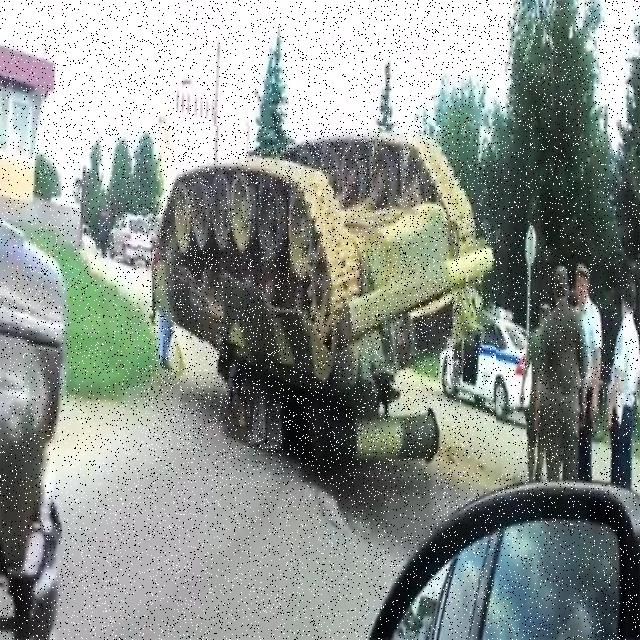MIL_MBT: (138, 127, 495, 454)
